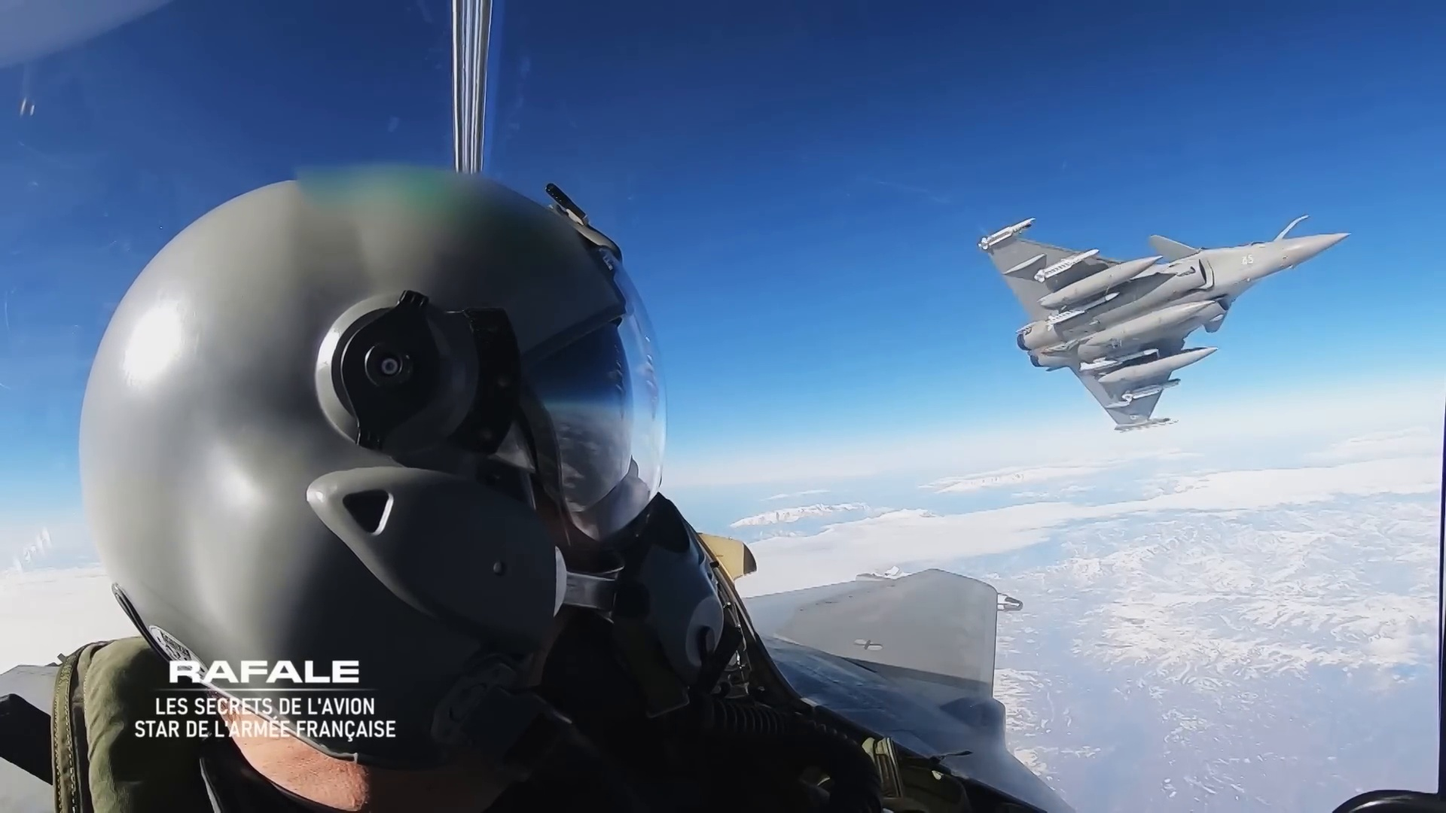Rafale: (962, 205, 1357, 446)
